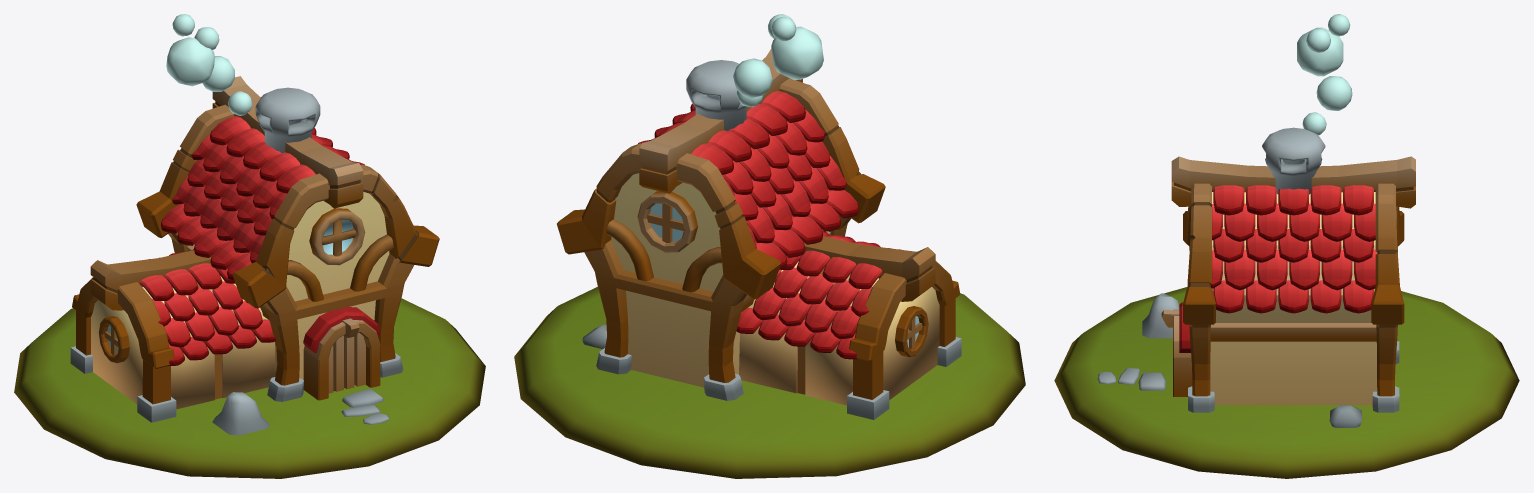
Rendered from cottage.glb.
3 views of the same model, side by side, from view 1: azimuth 30°, elevation 25°; view 2: azimuth 150°, elevation 25°; view 3: azimuth 270°, elevation 25° (orthographic). The views are drawn at different scales.
Visible parts, largest first — view 1: Cube.007; view 2: Cube.007; view 3: Cube.007.
Part boxes in pixels (bbox=[...]): Cube.007: bbox=[14, 14, 485, 478]; Cube.007: bbox=[514, 14, 1025, 478]; Cube.007: bbox=[1054, 14, 1519, 478].
Bounding box in the file's own units: 8.7 × 7.15 × 8.7.
4 materials, 2 textured.
